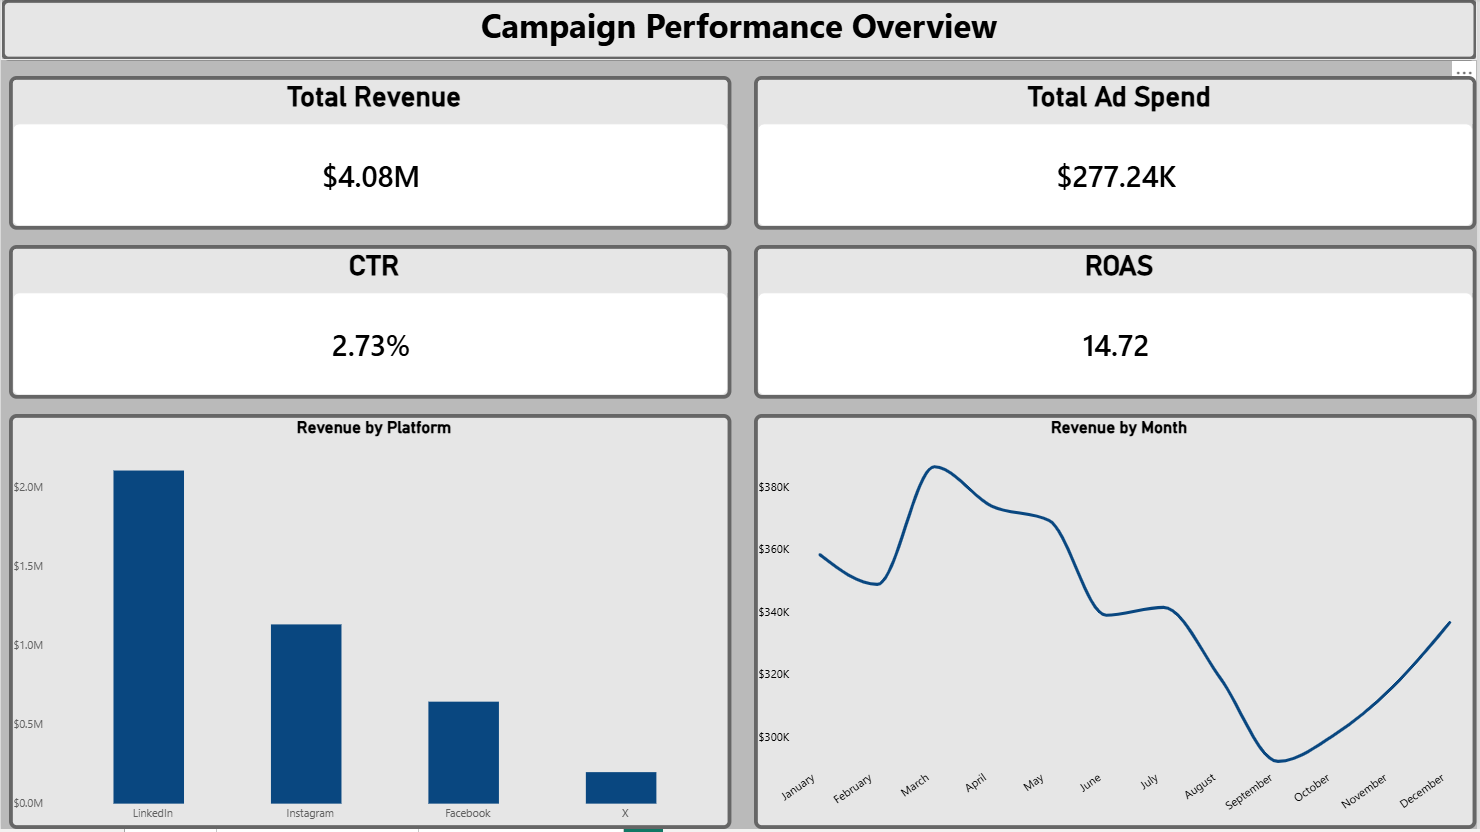

Layout of this report page (visuals, bound fields, positions):
{"tool":"powerbi","page":{"name":"Overview","canvas":[1920,1080],"ordinal":0},"visuals":[{"type":"textbox","title":"c","box":[0,0,1920.6,80],"z":0},{"type":"columnChart","title":"Revenue by Platform","fields":{"Category":["social_media_analytics campaigns.platform"],"Y":["social_media_analytics anomaly_results.Total Revenue"]},"box":[10,540,940,540],"z":1000},{"type":"lineChart","title":"Revenue by Month","fields":{"Category":["social_media_analytics campaign_performance.report_date.Variation.Date Hierarchy.Year","social_media_analytics campaign_performance.report_date.Variation.Date Hierarchy.Quarter","social_media_analytics campaign_performance.report_date.Variation.Date Hierarchy.Month","social_media_analytics campaign_performance.report_date.Variation.Date Hierarchy.Day"],"Y":["social_media_analytics anomaly_results.Total Revenue"]},"box":[980,540,940,540],"z":2000},{"type":"cardVisual","title":"Total Revenue","fields":{"Data":["social_media_analytics anomaly_results.Total Revenue"]},"box":[10.4,100.2,940,200],"z":3000},{"type":"cardVisual","title":"CTR","fields":{"Data":["social_media_analytics anomaly_results.CTR %"]},"box":[10,320,940,200],"z":4000},{"type":"cardVisual","title":"Total Ad Spend","fields":{"Data":["social_media_analytics anomaly_results.Total Ad Spend"]},"box":[980,100.2,940,200],"z":5000},{"type":"cardVisual","title":"ROAS","fields":{"Data":["social_media_analytics anomaly_results.ROAS"]},"box":[980,320,940,200],"z":6000}]}

Visuals, with their boxes in screenshot pixels (x1, y1, x2, y2), scaled from the page's 1920x1080 canvas onto the 1480x832 screenshot:
"c" textbox: region(0, 0, 1479, 62)
"Revenue by Platform" columnChart: region(8, 416, 732, 831)
"Revenue by Month" lineChart: region(755, 416, 1479, 831)
"Total Revenue" cardVisual: region(8, 77, 733, 231)
"CTR" cardVisual: region(8, 247, 732, 401)
"Total Ad Spend" cardVisual: region(755, 77, 1479, 231)
"ROAS" cardVisual: region(755, 247, 1479, 401)
